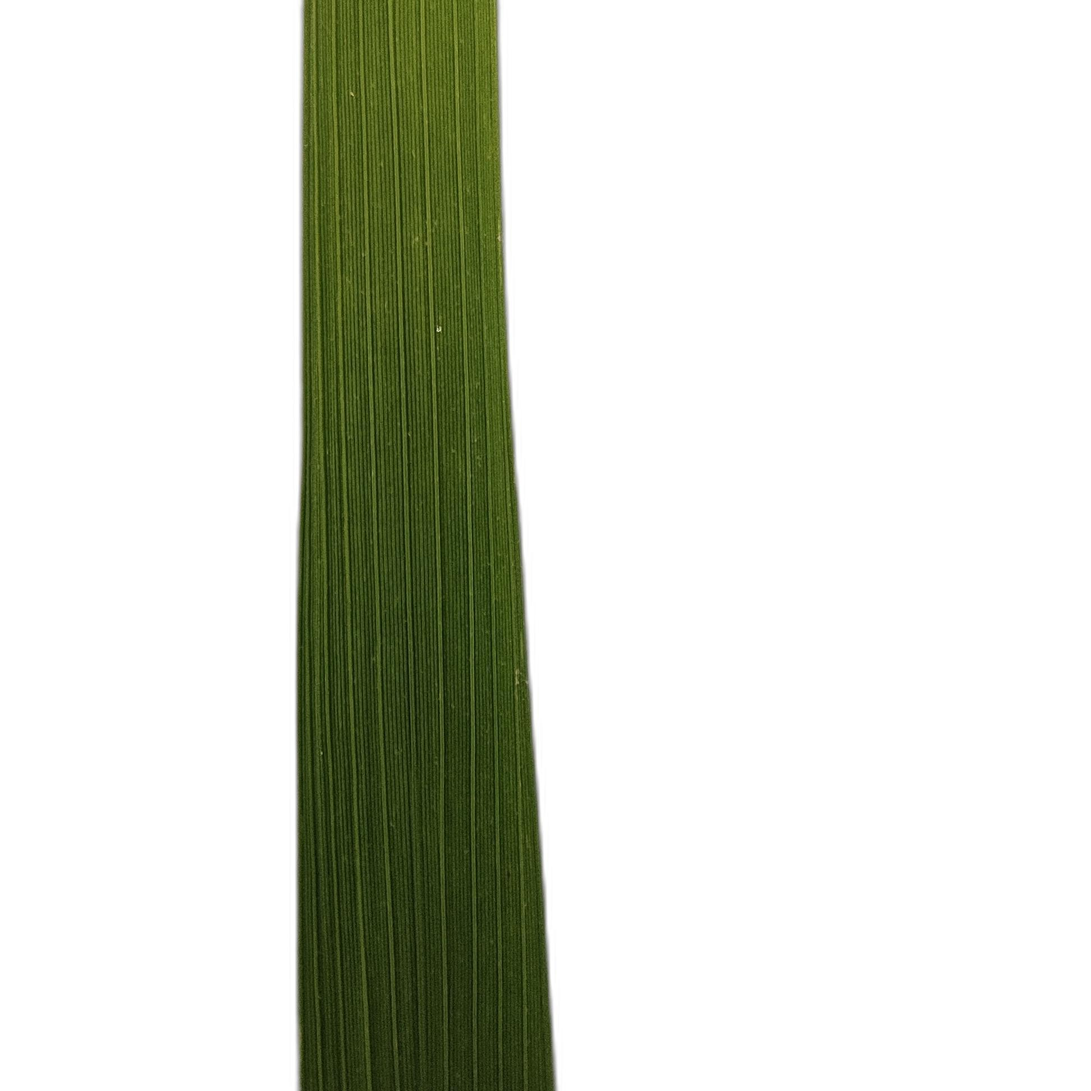Healthy: (297, 0, 552, 1090)
